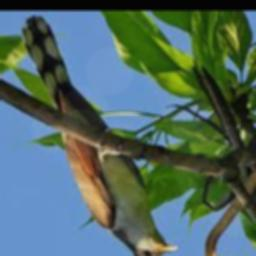Cuckoo: (20, 15, 179, 256)
